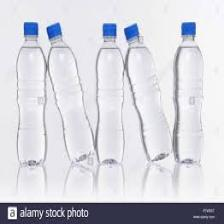plastic: (46, 24, 94, 172), (125, 26, 172, 172), (172, 16, 209, 167), (15, 18, 49, 178), (94, 22, 125, 170)
